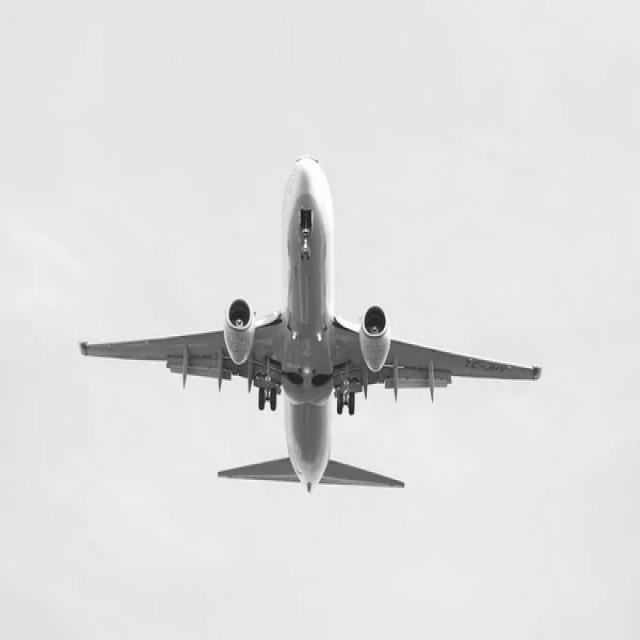Aircraft: (72, 148, 545, 507)
